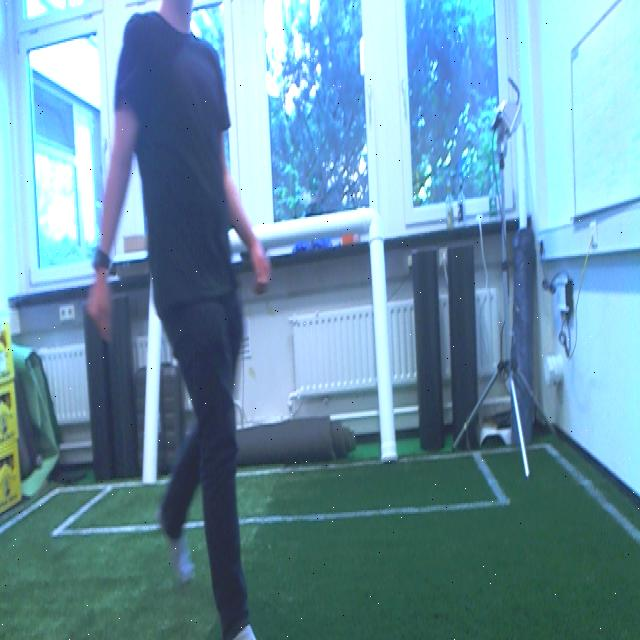goalpost: (366, 201, 394, 455), (146, 338, 158, 474)
